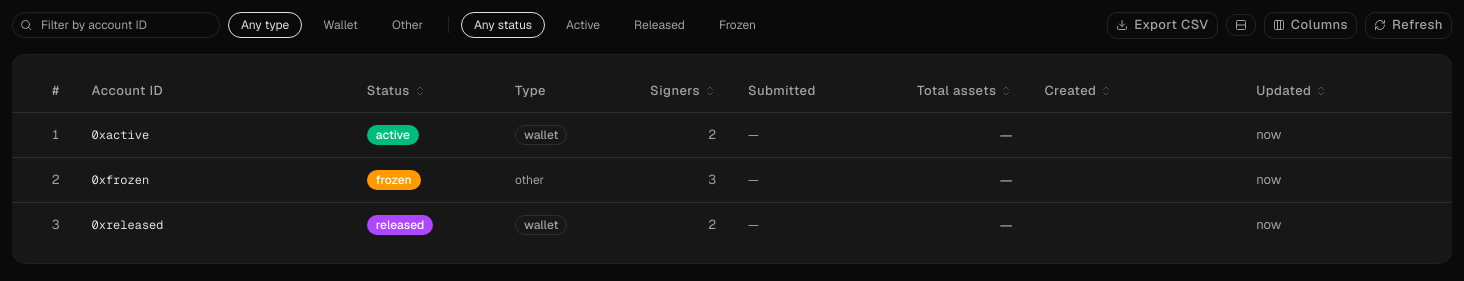
Test: AccountsPanel › filters on lifecycle state, combined with the kind chips
The width and height of the screenshot is (1464, 281).
Step 1. Click the button "Released" → x=660, y=25, box [621,12,698,38]
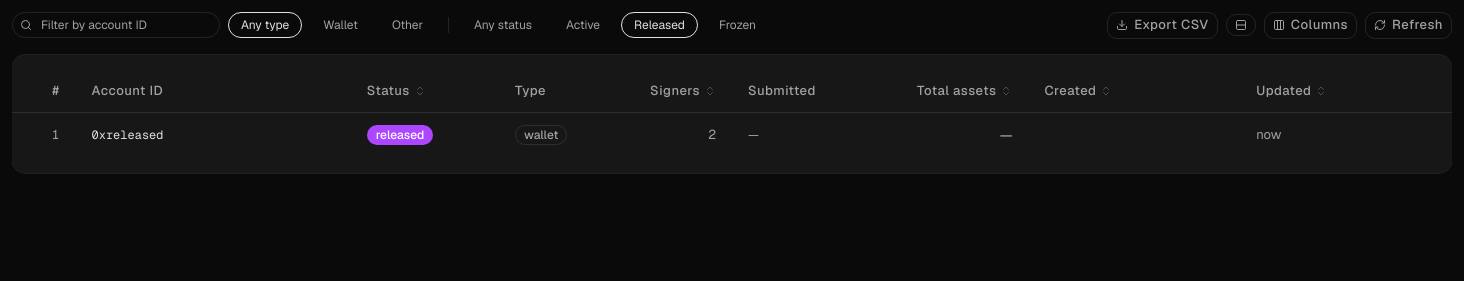
Check: the link "0xreleased" is shown, box [92,127,164,143]
Check: the link "0xactive" is gone
Check: the link "0xfrozen" is gone
Step 2. Click the button "Other" → x=407, y=25, box [379,12,436,38]
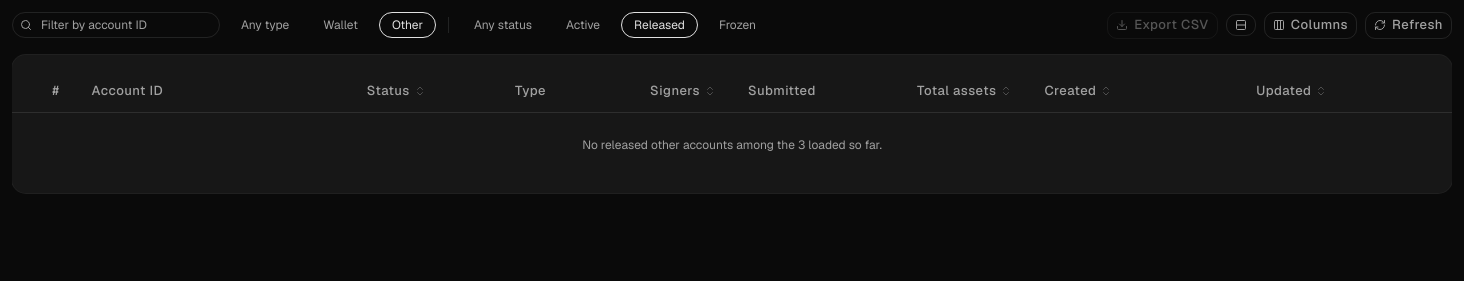
Check: the link "0xreleased" is gone
Check: the text "No released other accounts among the 3 loaded so far." is shown, box [582,137,882,153]
Step 3. Click the button "Any status" → x=503, y=25, box [461,12,545,38]
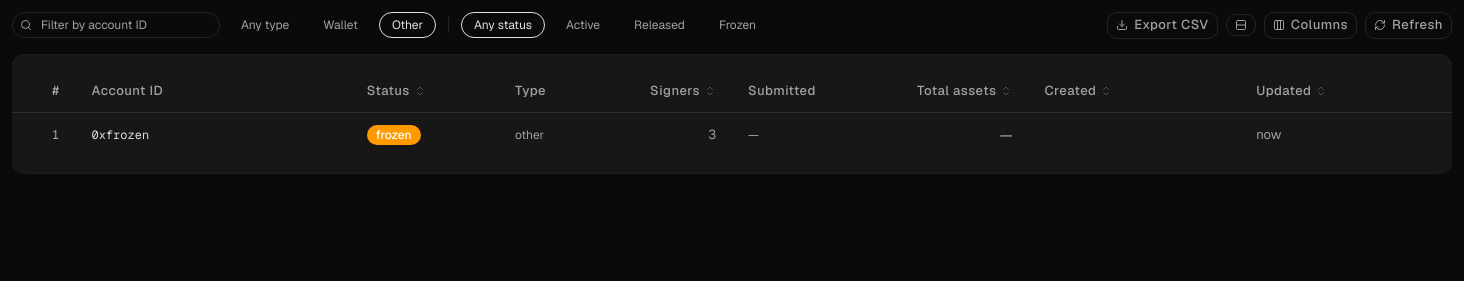
Check: the link "0xfrozen" is shown, box [92,127,149,143]
